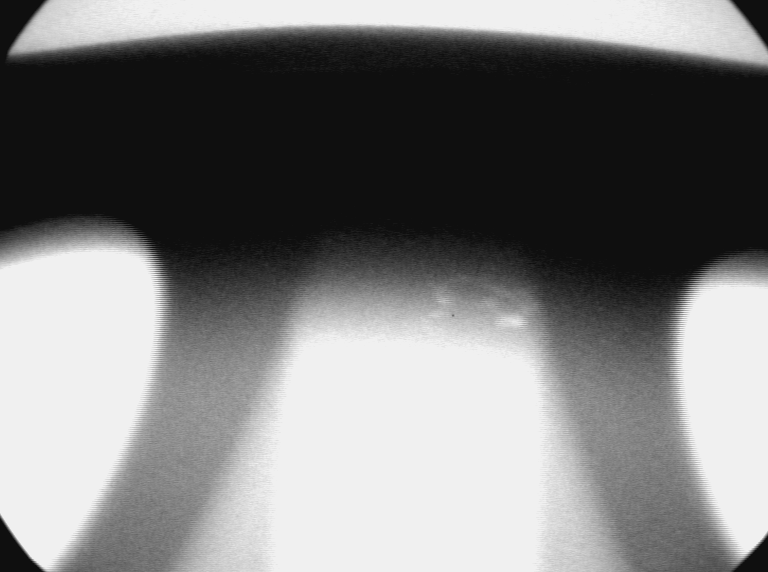defect: (417, 312, 451, 343)
